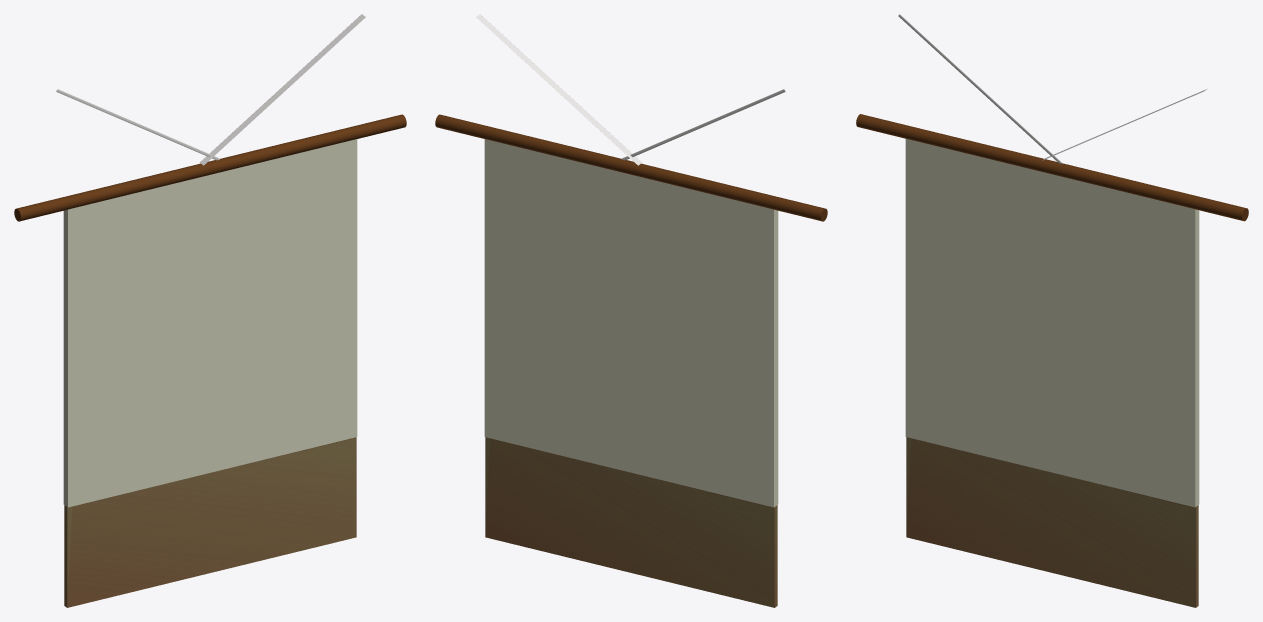
File: state-default.glb
The picture shows the model from 3 angles, left to right: view 1: azimuth 30°, elevation 25°; view 2: azimuth 150°, elevation 25°; view 3: azimuth 330°, elevation 25°; orthographic projection.
Parts seen in each view (by area): view 1: assetPrim:eedf6074a66ce-19c7438a204:macrame-body, assetPrim:eedf6074a66ce-19c7438a204:macrame-fringe, assetPrim:eedf6074a66ce-19c7438a204:macrame-dowel, assetPrim:eedf6074a66ce-19c7438a204:macrame-cord-r, assetPrim:eedf6074a66ce-19c7438a204:macrame-cord-l; view 2: assetPrim:eedf6074a66ce-19c7438a204:macrame-body, assetPrim:eedf6074a66ce-19c7438a204:macrame-fringe, assetPrim:eedf6074a66ce-19c7438a204:macrame-dowel, assetPrim:eedf6074a66ce-19c7438a204:macrame-cord-r, assetPrim:eedf6074a66ce-19c7438a204:macrame-cord-l; view 3: assetPrim:eedf6074a66ce-19c7438a204:macrame-body, assetPrim:eedf6074a66ce-19c7438a204:macrame-fringe, assetPrim:eedf6074a66ce-19c7438a204:macrame-dowel, assetPrim:eedf6074a66ce-19c7438a204:macrame-cord-l.
Boxes of the visible parts, bbox=[...] form: assetPrim:eedf6074a66ce-19c7438a204:macrame-body: bbox=[63, 139, 357, 507]; assetPrim:eedf6074a66ce-19c7438a204:macrame-fringe: bbox=[64, 437, 356, 607]; assetPrim:eedf6074a66ce-19c7438a204:macrame-dowel: bbox=[14, 114, 406, 221]; assetPrim:eedf6074a66ce-19c7438a204:macrame-cord-r: bbox=[199, 14, 365, 165]; assetPrim:eedf6074a66ce-19c7438a204:macrame-cord-l: bbox=[56, 89, 219, 160]; assetPrim:eedf6074a66ce-19c7438a204:macrame-body: bbox=[484, 139, 778, 507]; assetPrim:eedf6074a66ce-19c7438a204:macrame-fringe: bbox=[485, 437, 777, 607]; assetPrim:eedf6074a66ce-19c7438a204:macrame-dowel: bbox=[435, 114, 827, 221]; assetPrim:eedf6074a66ce-19c7438a204:macrame-cord-r: bbox=[476, 14, 642, 165]; assetPrim:eedf6074a66ce-19c7438a204:macrame-cord-l: bbox=[622, 89, 785, 160]; assetPrim:eedf6074a66ce-19c7438a204:macrame-body: bbox=[905, 138, 1199, 507]; assetPrim:eedf6074a66ce-19c7438a204:macrame-fringe: bbox=[906, 437, 1198, 607]; assetPrim:eedf6074a66ce-19c7438a204:macrame-dowel: bbox=[856, 114, 1248, 221]; assetPrim:eedf6074a66ce-19c7438a204:macrame-cord-l: bbox=[898, 14, 1061, 163].
Bounding box in the file's own units: 0.8 × 1.03 × 0.024.
5 materials, 1 textured.
